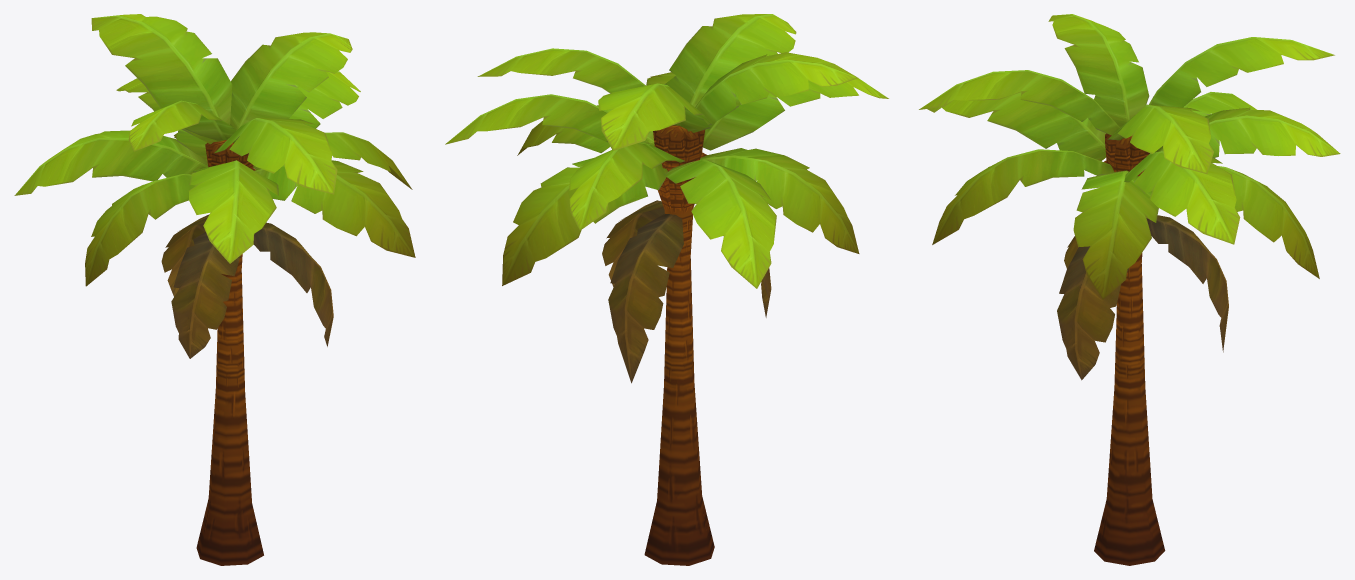
Rendered from coconut_tree.glb.
The picture shows the model from 3 angles, left to right: view 1: azimuth 30°, elevation 25°; view 2: azimuth 150°, elevation 25°; view 3: azimuth 270°, elevation 25°; orthographic projection. The views are drawn at different scales.
Parts seen in each view (by area): view 1: coconut_tree; view 2: coconut_tree; view 3: coconut_tree.
Boxes of the visible parts, <box> form: coconut_tree: <box>14,14,415,565</box>; coconut_tree: <box>445,14,888,565</box>; coconut_tree: <box>919,14,1340,565</box>.
Bounding box in the file's own units: 5.63 × 7.92 × 6.07.
Materials: 1 (1 with a texture image).
